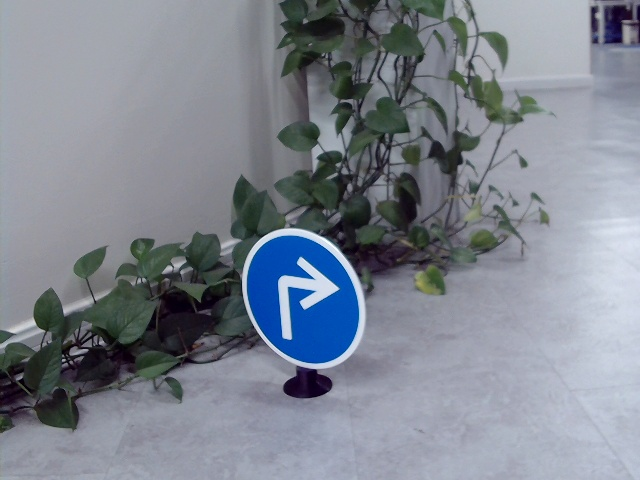turn_right: (267, 248, 340, 338)
